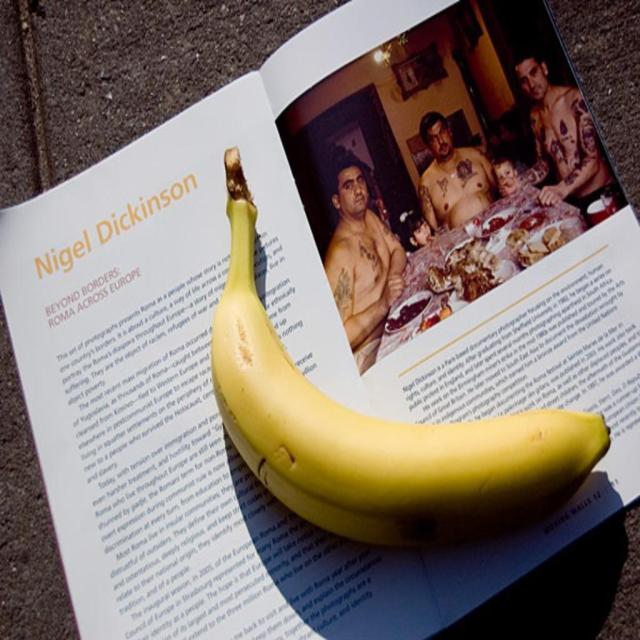banana: (210, 148, 612, 552)
